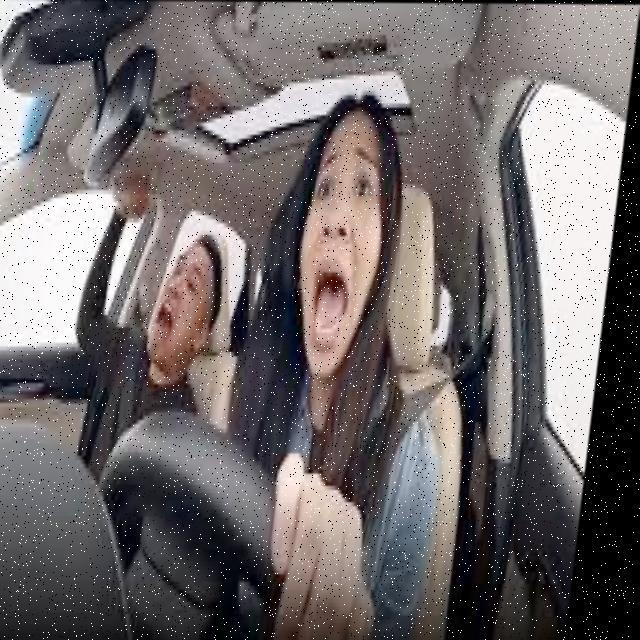seatbelt: (358, 300, 486, 612)
